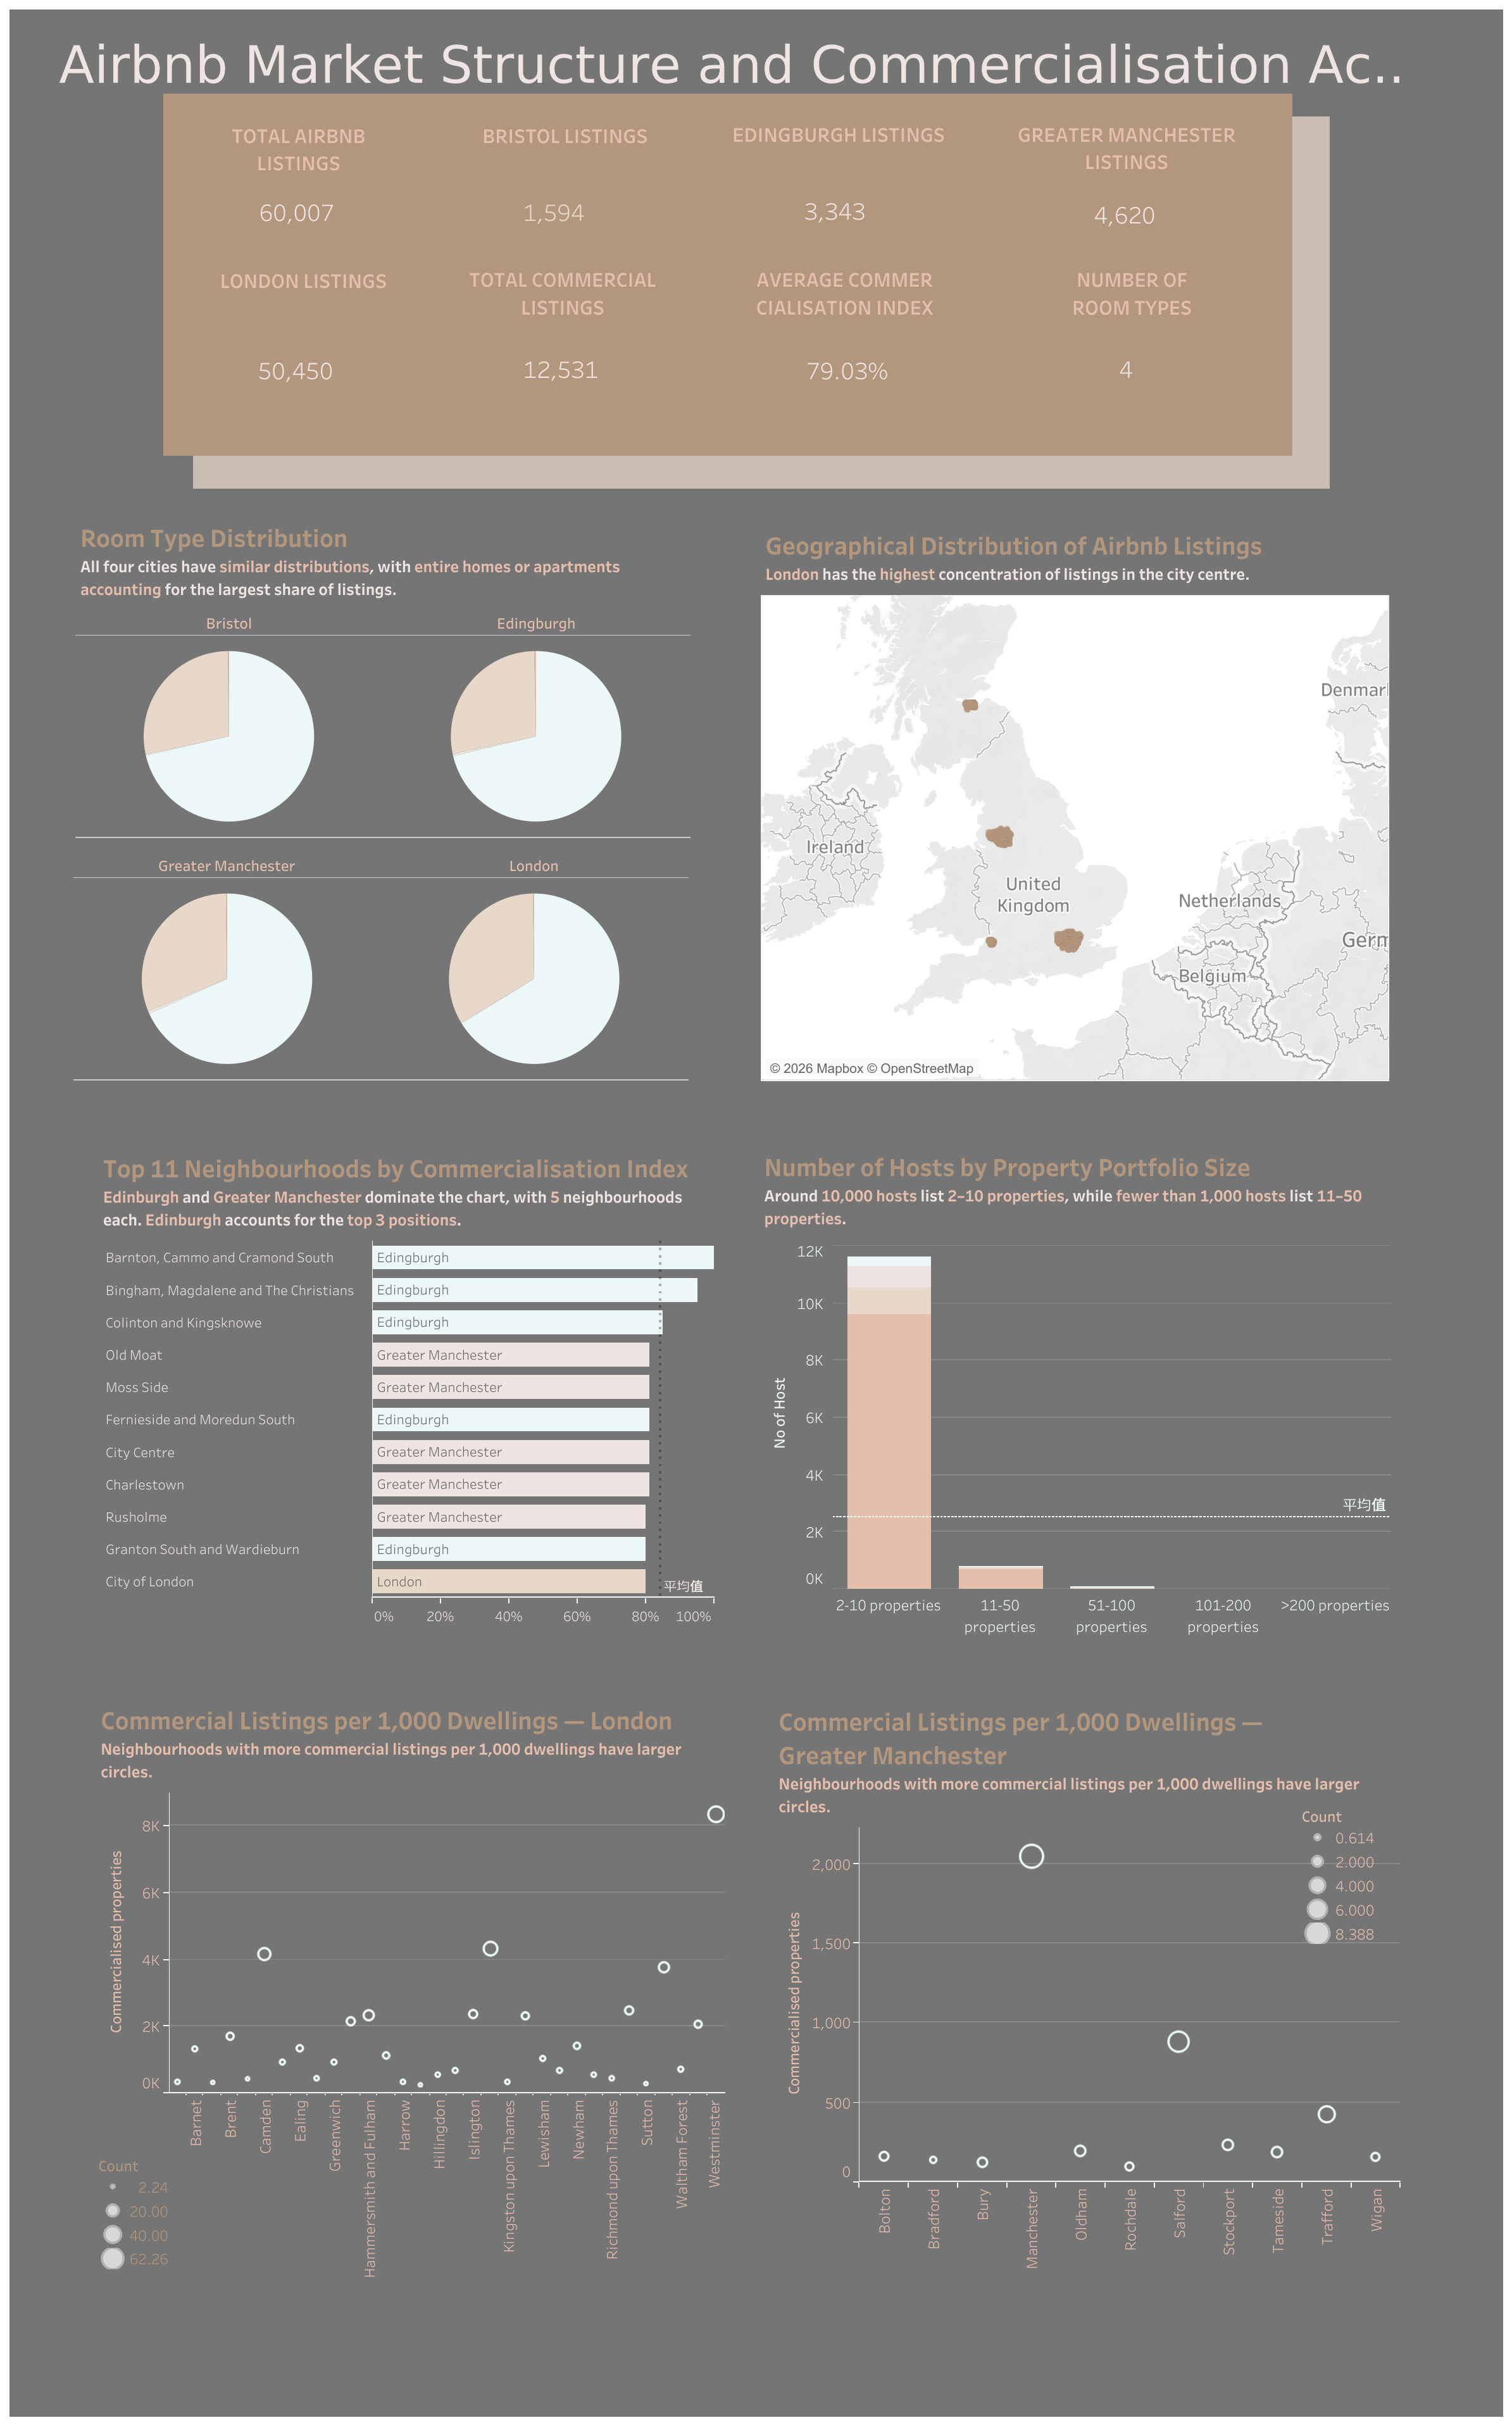

The dashboard page shown, as its layout file describes it:
{"tool":"tableau","page":{"name":"Dashboard 2","canvas":[1000,1000],"units":"permille","ordinal":0},"visuals":[{"type":"text","box":[6.4,10,987.1,77.7]},{"type":"text","box":[6.4,87.7,555.3,97.3]},{"type":"text","box":[561.7,87.7,431.9,97.3]},{"type":"worksheet","title":"Q1.1","mark":"Automatic","rows":["neighbourhood_group","room_type"],"cols":["room_type_count"],"box":[6.4,185,348.7,517.5]},{"type":"worksheet","title":"Geo 1","mark":"Automatic","rows":["latitude"],"cols":["longitude"],"box":[355.1,185,206.6,517.5]},{"type":"worksheet","title":"Q2","mark":"Automatic","rows":["F1"],"cols":["Commercialised index"],"box":[561.7,185,431.9,173.4]},{"type":"worksheet","title":"Q4","mark":"Circle","rows":["Concentrated relative to housing stock"],"cols":["Entire-home listing"],"box":[561.7,358.4,431.9,315.8]},{"type":"worksheet","title":"Q5","mark":"Automatic","rows":["Price Index of Private Rent Changes (Jun 25 vs Jul 20)"],"cols":["F1"],"box":[561.7,674.2,431.9,315.8]},{"type":"text","box":[6.4,702.5,555.3,40]},{"type":"worksheet","title":"1.1","mark":"Pie","cols":["neighbourhood_group"],"box":[6.4,742.5,134.8,247.5]},{"type":"worksheet","title":"Q1.1 L2.1","mark":"Pie","cols":["neighbourhood_group"],"box":[141.2,742.5,142.9,247.5]},{"type":"worksheet","title":"Q1.1 E2.1","mark":"Pie","cols":["neighbourhood_group"],"box":[284.1,742.5,134,247.5]},{"type":"worksheet","title":"Q1.1 G2.1","mark":"Pie","cols":["neighbourhood_group"],"box":[418.1,742.5,143.7,247.5]}]}

Visuals, with their boxes on the dashboard's canvas, which has no fixed pixel size, in thousandths of its width and height (x1, y1, x2, y2). These are canvas units, not pixel positions in the 1512x2425 screenshot, which may show the page scaled, cropped or inside an application window:
text: [x1=6, y1=10, x2=994, y2=88]
text: [x1=6, y1=88, x2=562, y2=185]
text: [x1=562, y1=88, x2=994, y2=185]
"Q1.1" worksheet: [x1=6, y1=185, x2=355, y2=702]
"Geo 1" worksheet: [x1=355, y1=185, x2=562, y2=702]
"Q2" worksheet: [x1=562, y1=185, x2=994, y2=358]
"Q4" worksheet (Circle marks): [x1=562, y1=358, x2=994, y2=674]
"Q5" worksheet: [x1=562, y1=674, x2=994, y2=990]
text: [x1=6, y1=702, x2=562, y2=742]
"1.1" worksheet (Pie marks): [x1=6, y1=742, x2=141, y2=990]
"Q1.1 L2.1" worksheet (Pie marks): [x1=141, y1=742, x2=284, y2=990]
"Q1.1 E2.1" worksheet (Pie marks): [x1=284, y1=742, x2=418, y2=990]
"Q1.1 G2.1" worksheet (Pie marks): [x1=418, y1=742, x2=562, y2=990]
